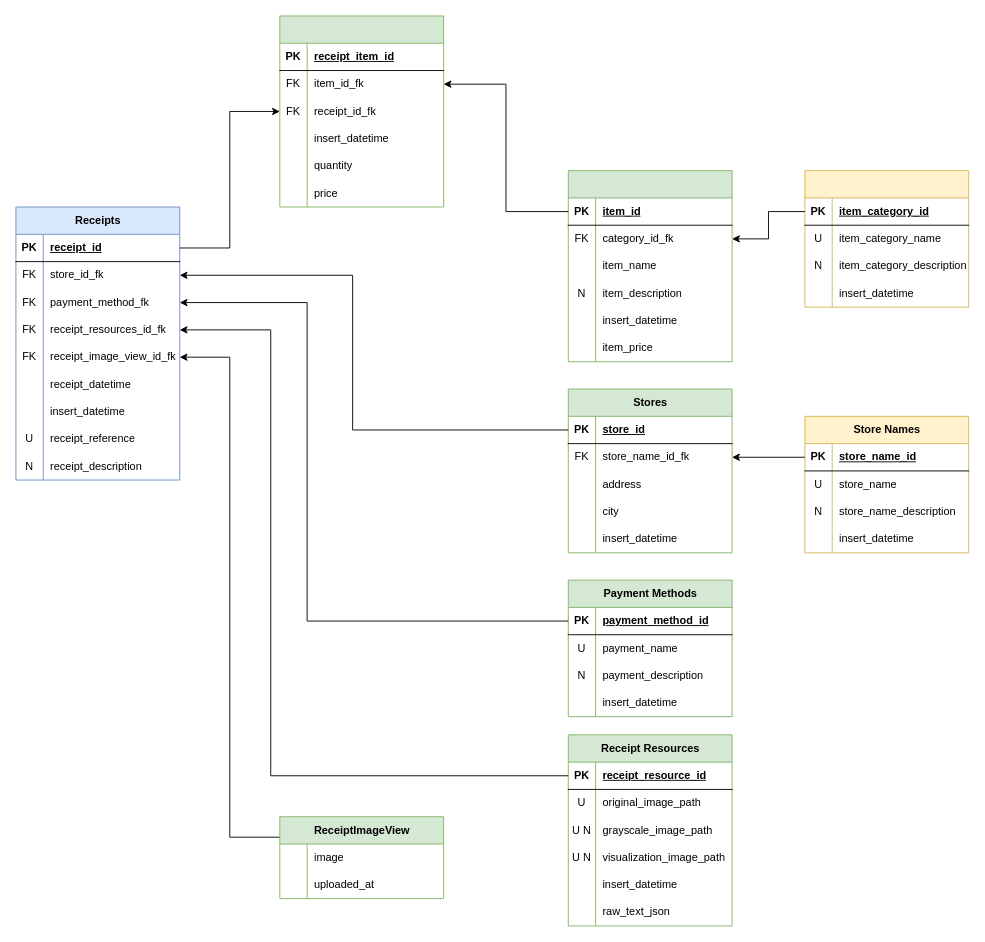
Image size: 985x942. Some labels were removed from this diagram. The shapes that lost their labels are listed below. From the top down, each one's box as (x1, y1, x2, y2) in pixels, then its label:
(279, 15, 444, 207): ReceiptsItems
(804, 170, 969, 307): Item Categories
(567, 170, 732, 362): Items
